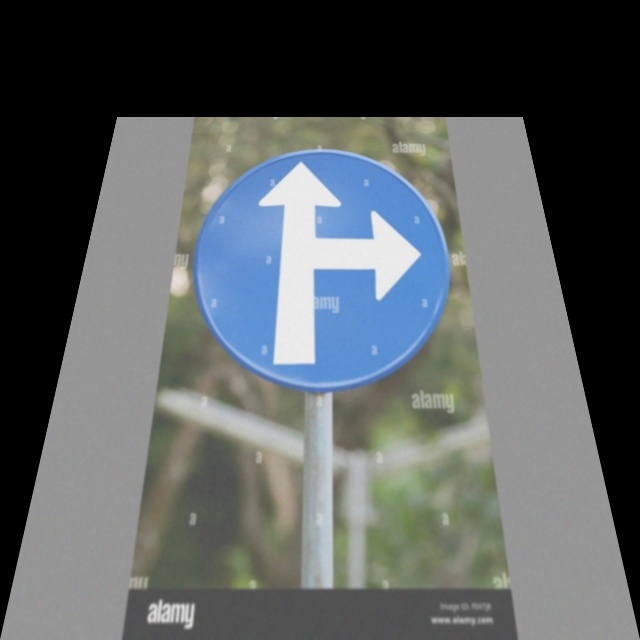Compulsory_Ahead_or_Turn_Right: (180, 147, 456, 388)
